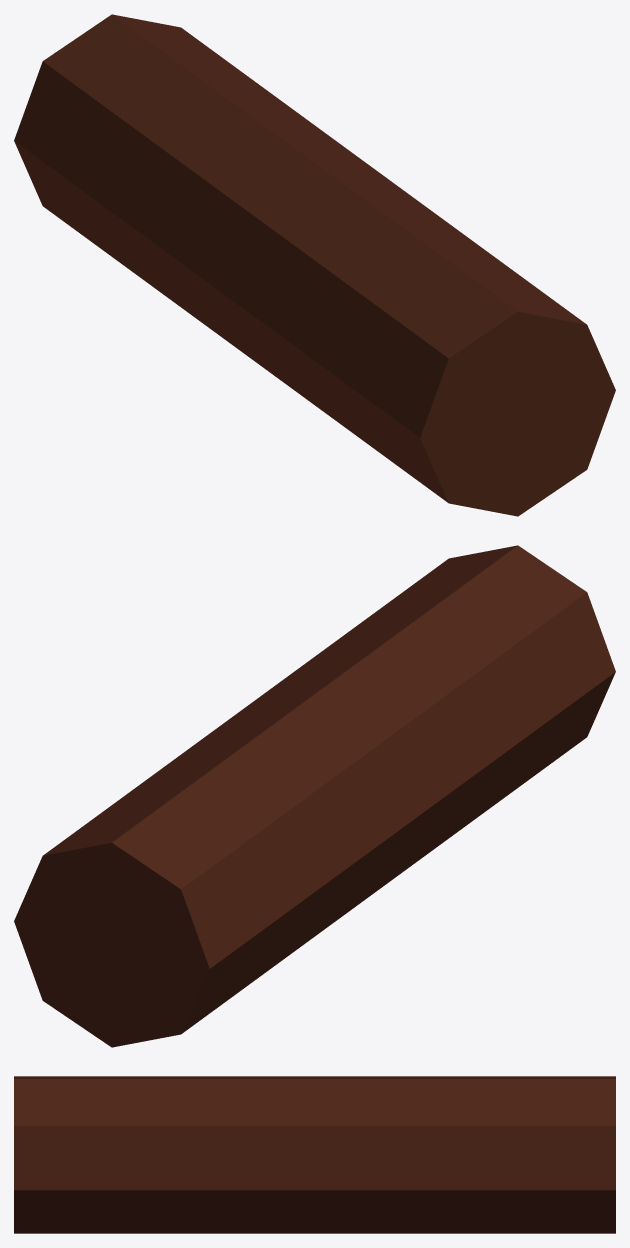
The model's file is Wood 3.fbx.
The picture shows the model from 3 angles, top to bottom: view 1: azimuth 30°, elevation 25°; view 2: azimuth 150°, elevation 25°; view 3: azimuth 270°, elevation 25°; orthographic projection. The views are drawn at different scales.
Visible parts, largest first — view 1: metade 1, metade 2; view 2: metade 2, metade 1; view 3: metade 1, metade 2.
Part boxes in pixels (left/top/right/bottom): metade 1: left=217, top=163, right=615, bottom=516; metade 2: left=14, top=14, right=383, bottom=354; metade 2: left=14, top=694, right=412, bottom=1047; metade 1: left=246, top=545, right=615, bottom=885; metade 1: left=14, top=1076, right=314, bottom=1233; metade 2: left=315, top=1076, right=615, bottom=1233.
Size of the model in its own units: 100 by 100 by 359.
